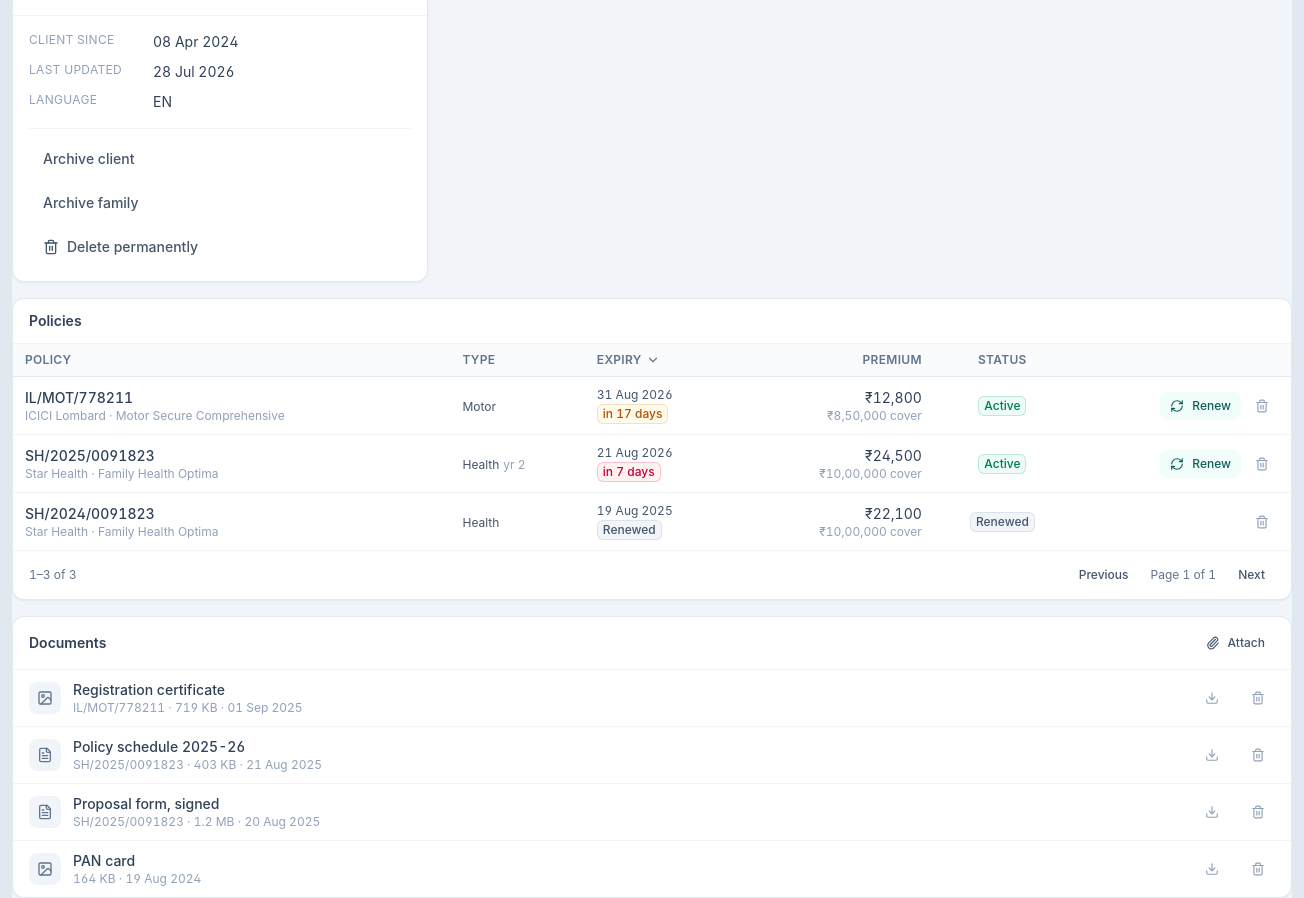
the client's policies › keeps the header counts in step when a policy goes
(page scrolled)
Expected: the table is shown, [13, 344, 1291, 550]
Click the button named "Delete" in the row of "yr" at (1262, 464), box [1245, 450, 1279, 476]
(page scrolled)
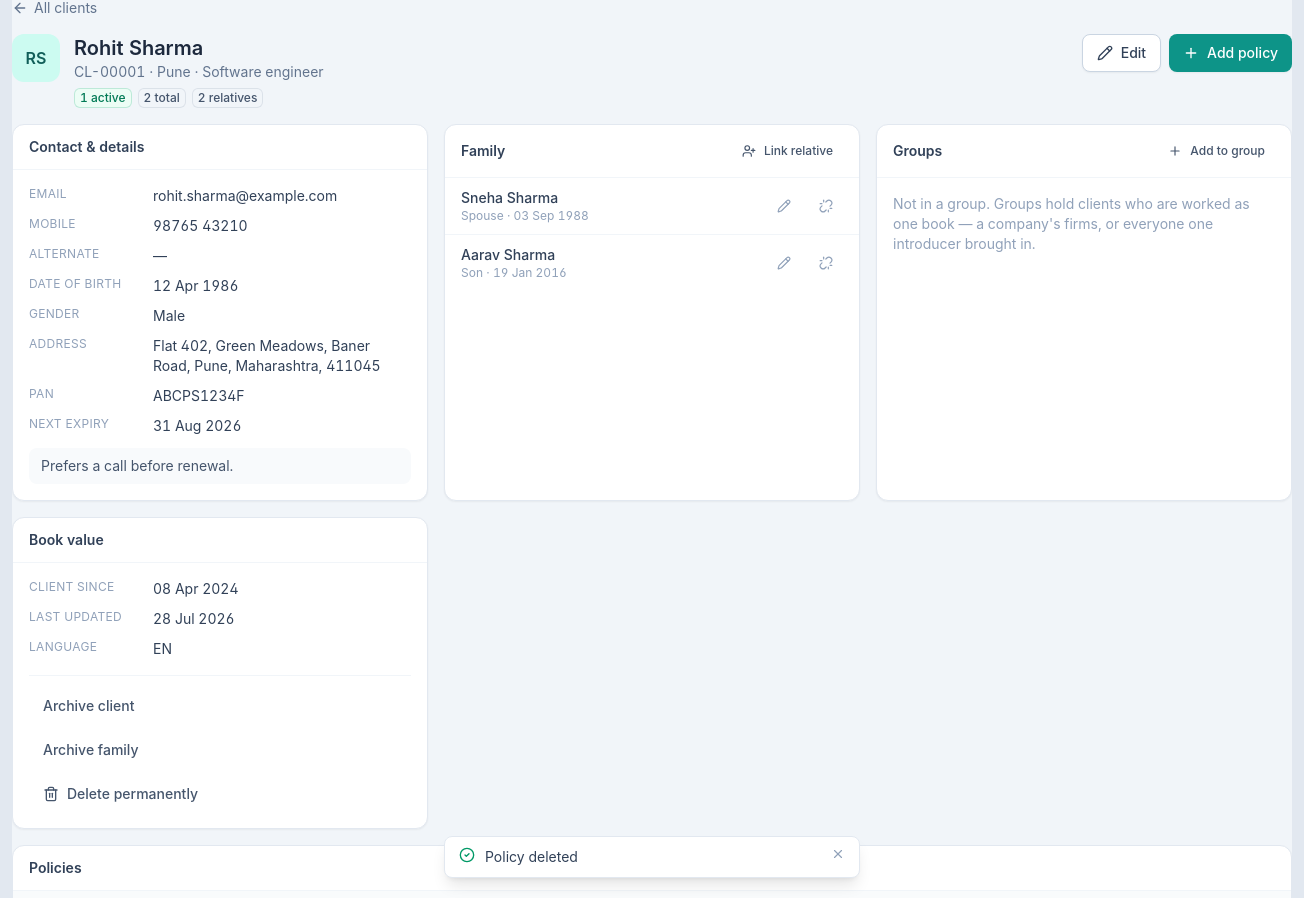
Expected: the text "Policy deleted" is shown, [485, 848, 578, 865]
Expected: the text "1 active" is shown, [74, 88, 132, 108]
